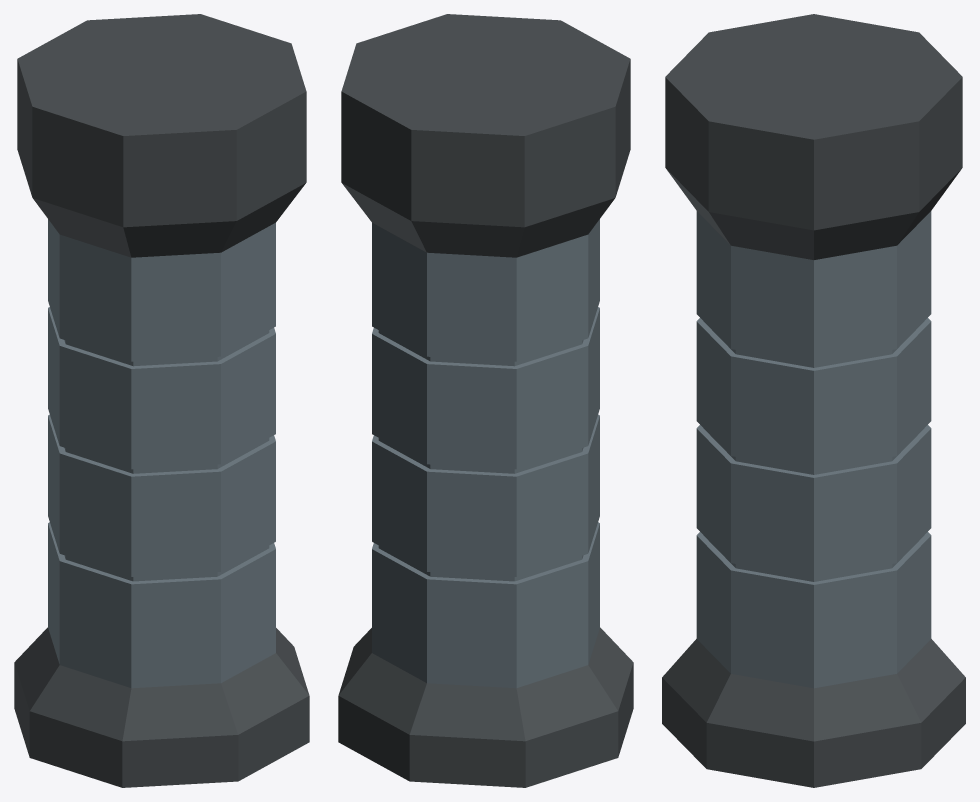
File: pillar_2.obj
3 renders of one model, left to right at view 1: azimuth 30°, elevation 25°; view 2: azimuth 150°, elevation 25°; view 3: azimuth 270°, elevation 25°, orthographic.
Parts seen in each view (by area): view 1: pillar_2; view 2: pillar_2; view 3: pillar_2.
Part boxes in pixels (<box>): pillar_2: <box>14,14,309,787</box>; pillar_2: <box>338,14,633,787</box>; pillar_2: <box>662,14,965,787</box>.
Size of the model in its own units: 0.648 by 1.52 by 0.648.
